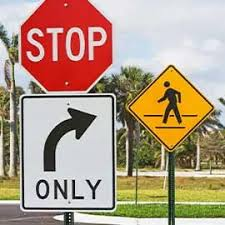Stop: (18, 0, 114, 94)
